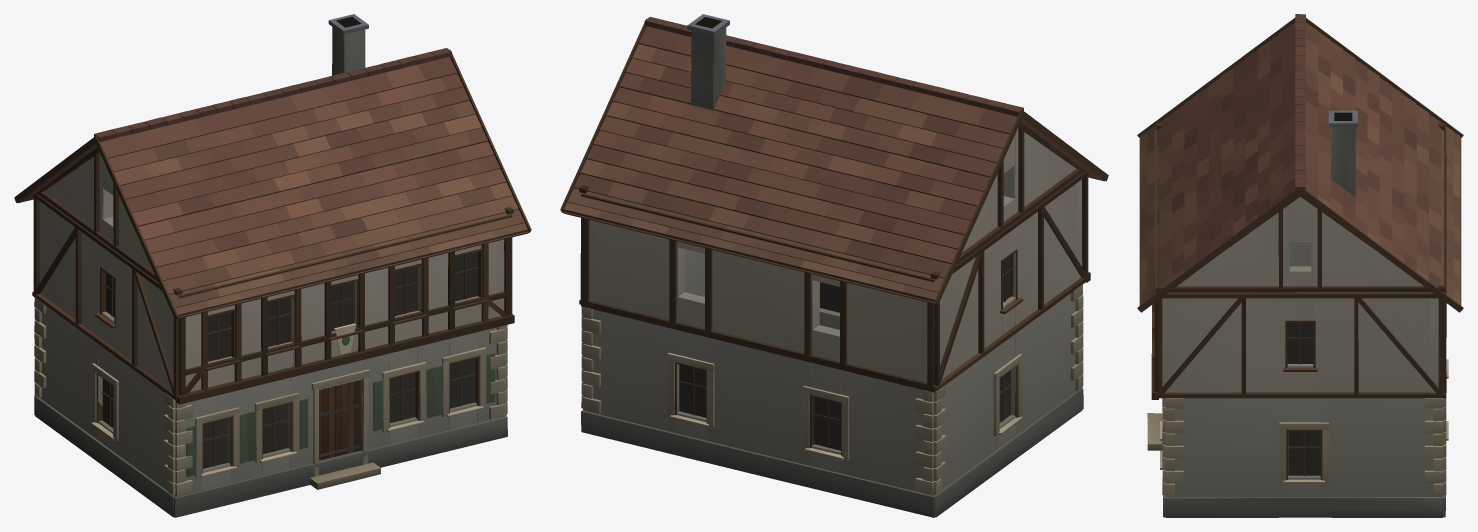
Rendered from ph_bld_v_office.glb.
The picture shows the model from 3 angles, left to right: view 1: azimuth 30°, elevation 25°; view 2: azimuth 150°, elevation 25°; view 3: azimuth 270°, elevation 25°; orthographic projection. The views are drawn at different scales.
Visible parts, largest first — view 1: ph_bld_v_office; view 2: ph_bld_v_office; view 3: ph_bld_v_office.
Part boxes in pixels (x1,y1,x2,y2): ph_bld_v_office: (14,14,531,517); ph_bld_v_office: (560,14,1108,517); ph_bld_v_office: (1137,14,1463,517).
Size of the model in its own units: 9.49 by 9.36 by 7.53.
